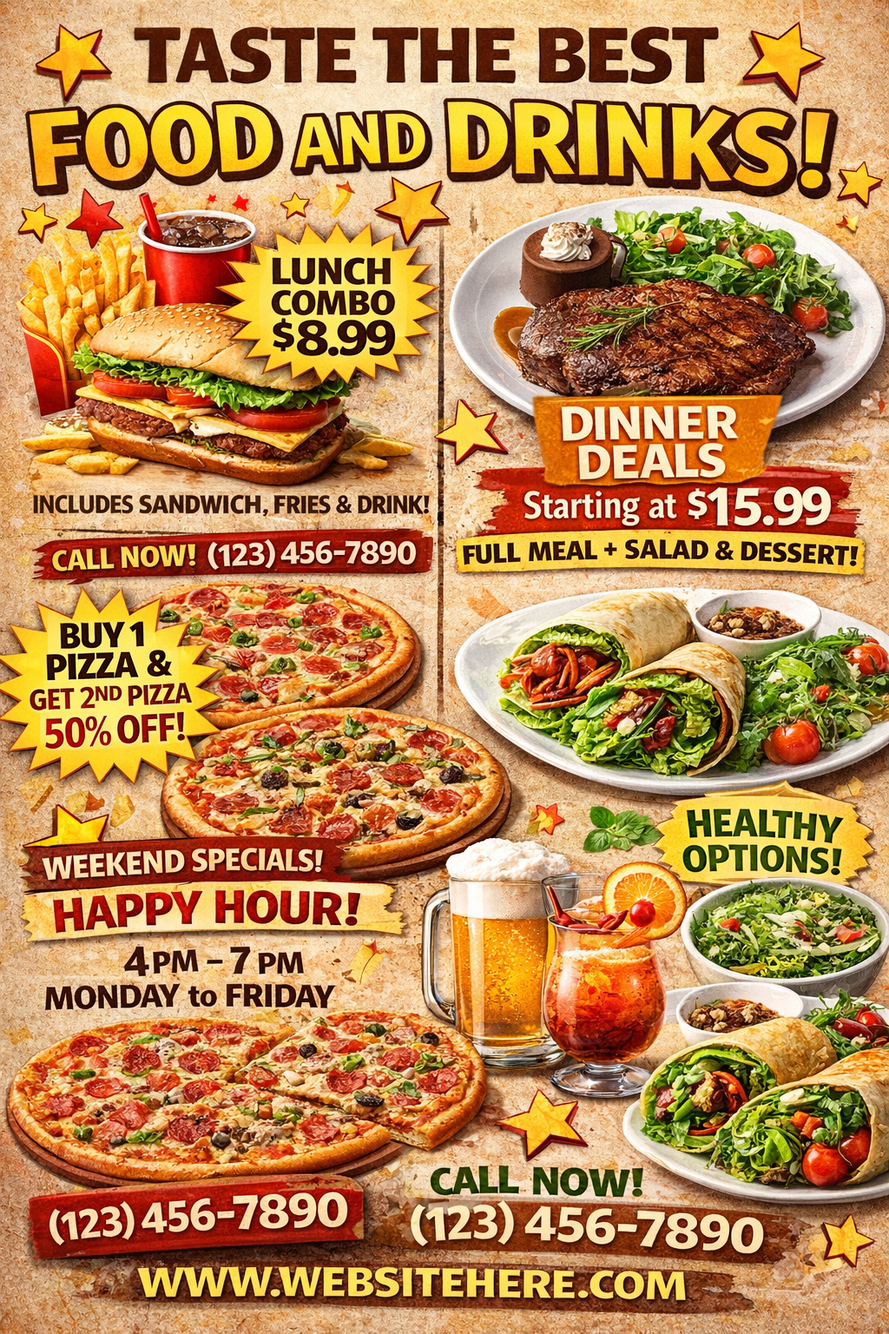CTA: (423, 1153, 652, 1204)
Headline: (17, 15, 872, 195)
Price: (6, 591, 212, 762), (249, 250, 425, 387), (521, 481, 842, 528)
Product: (12, 189, 876, 1202)
